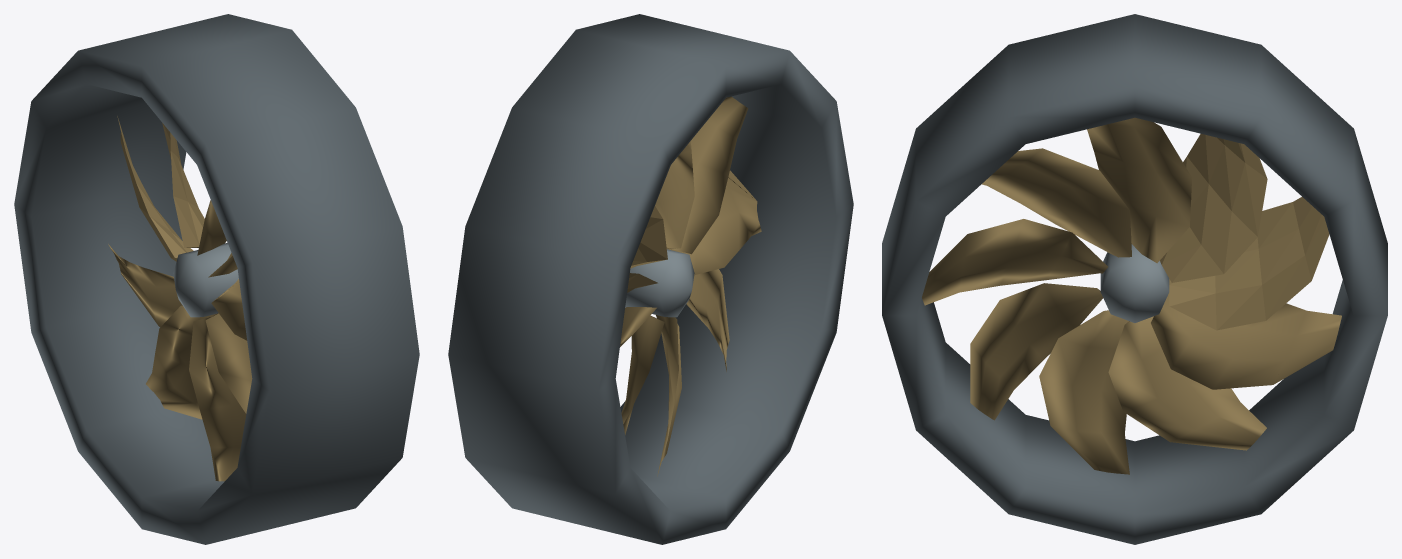
Rendered from THRUSTER_RIM_DRIVEN_LOD3.fbx.
3 renders of one model, left to right at view 1: azimuth 30°, elevation 25°; view 2: azimuth 150°, elevation 25°; view 3: azimuth 270°, elevation 25°, orthographic.
Parts seen in each view (by area): view 1: THRUSTER_RIM_DRIVEN_LOD3_Duct.001, THRUSTER_RIM_DRIVEN_LOD3_Impeller_06.001, THRUSTER_RIM_DRIVEN_LOD3_Impeller_07.001, THRUSTER_RIM_DRIVEN_LOD3_Hub.001, THRUSTER_RIM_DRIVEN_LOD3_Impeller_05.001, THRUSTER_RIM_DRIVEN_LOD3_Impeller_08.001, THRUSTER_RIM_DRIVEN_LOD3_Impeller_01.001, THRUSTER_RIM_DRIVEN_LOD3_Impeller_00.001, THRUSTER_RIM_DRIVEN_LOD3_Impeller_04.001, THRUSTER_RIM_DRIVEN_LOD3_Impeller_02.001; view 2: THRUSTER_RIM_DRIVEN_LOD3_Duct.001, THRUSTER_RIM_DRIVEN_LOD3_Impeller_03.001, THRUSTER_RIM_DRIVEN_LOD3_Impeller_04.001, THRUSTER_RIM_DRIVEN_LOD3_Hub.001, THRUSTER_RIM_DRIVEN_LOD3_Impeller_02.001, THRUSTER_RIM_DRIVEN_LOD3_Impeller_05.001, THRUSTER_RIM_DRIVEN_LOD3_Impeller_07.001, THRUSTER_RIM_DRIVEN_LOD3_Impeller_06.001, THRUSTER_RIM_DRIVEN_LOD3_Impeller_01.001, THRUSTER_RIM_DRIVEN_LOD3_Impeller_08.001; view 3: THRUSTER_RIM_DRIVEN_LOD3_Duct.001, THRUSTER_RIM_DRIVEN_LOD3_Impeller_08.001, THRUSTER_RIM_DRIVEN_LOD3_Impeller_00.001, THRUSTER_RIM_DRIVEN_LOD3_Impeller_07.001, THRUSTER_RIM_DRIVEN_LOD3_Impeller_01.001, THRUSTER_RIM_DRIVEN_LOD3_Impeller_06.001, THRUSTER_RIM_DRIVEN_LOD3_Impeller_05.001, THRUSTER_RIM_DRIVEN_LOD3_Impeller_02.001, THRUSTER_RIM_DRIVEN_LOD3_Impeller_04.001, THRUSTER_RIM_DRIVEN_LOD3_Impeller_03.001, THRUSTER_RIM_DRIVEN_LOD3_Hub.001.
Part boxes in pixels (x1,y1,x2,y2): THRUSTER_RIM_DRIVEN_LOD3_Duct.001: (14, 14, 419, 544); THRUSTER_RIM_DRIVEN_LOD3_Impeller_06.001: (189, 317, 246, 481); THRUSTER_RIM_DRIVEN_LOD3_Impeller_07.001: (146, 305, 216, 419); THRUSTER_RIM_DRIVEN_LOD3_Hub.001: (173, 242, 238, 317); THRUSTER_RIM_DRIVEN_LOD3_Impeller_05.001: (205, 313, 252, 413); THRUSTER_RIM_DRIVEN_LOD3_Impeller_08.001: (108, 244, 182, 327); THRUSTER_RIM_DRIVEN_LOD3_Impeller_01.001: (162, 123, 204, 247); THRUSTER_RIM_DRIVEN_LOD3_Impeller_00.001: (117, 116, 193, 261); THRUSTER_RIM_DRIVEN_LOD3_Impeller_04.001: (211, 279, 247, 340); THRUSTER_RIM_DRIVEN_LOD3_Impeller_02.001: (197, 200, 226, 255); THRUSTER_RIM_DRIVEN_LOD3_Duct.001: (448, 14, 853, 544); THRUSTER_RIM_DRIVEN_LOD3_Impeller_03.001: (669, 96, 748, 254); THRUSTER_RIM_DRIVEN_LOD3_Impeller_04.001: (666, 170, 761, 274); THRUSTER_RIM_DRIVEN_LOD3_Hub.001: (625, 249, 694, 317); THRUSTER_RIM_DRIVEN_LOD3_Impeller_02.001: (655, 141, 694, 248); THRUSTER_RIM_DRIVEN_LOD3_Impeller_05.001: (686, 269, 729, 371); THRUSTER_RIM_DRIVEN_LOD3_Impeller_07.001: (621, 315, 664, 434); THRUSTER_RIM_DRIVEN_LOD3_Impeller_06.001: (656, 315, 681, 476); THRUSTER_RIM_DRIVEN_LOD3_Impeller_01.001: (630, 206, 667, 268); THRUSTER_RIM_DRIVEN_LOD3_Impeller_08.001: (620, 307, 656, 346); THRUSTER_RIM_DRIVEN_LOD3_Duct.001: (882, 14, 1387, 544); THRUSTER_RIM_DRIVEN_LOD3_Impeller_08.001: (1151, 293, 1341, 389); THRUSTER_RIM_DRIVEN_LOD3_Impeller_00.001: (1169, 197, 1329, 330); THRUSTER_RIM_DRIVEN_LOD3_Impeller_07.001: (1108, 316, 1266, 450); THRUSTER_RIM_DRIVEN_LOD3_Impeller_01.001: (1160, 134, 1267, 282); THRUSTER_RIM_DRIVEN_LOD3_Impeller_06.001: (1039, 310, 1129, 474); THRUSTER_RIM_DRIVEN_LOD3_Impeller_05.001: (970, 283, 1102, 420); THRUSTER_RIM_DRIVEN_LOD3_Impeller_02.001: (1087, 117, 1192, 263); THRUSTER_RIM_DRIVEN_LOD3_Impeller_04.001: (922, 219, 1107, 305); THRUSTER_RIM_DRIVEN_LOD3_Impeller_03.001: (982, 148, 1131, 257); THRUSTER_RIM_DRIVEN_LOD3_Hub.001: (1100, 244, 1169, 322).
Bounding box in the file's own units: 55 × 162 × 162.
